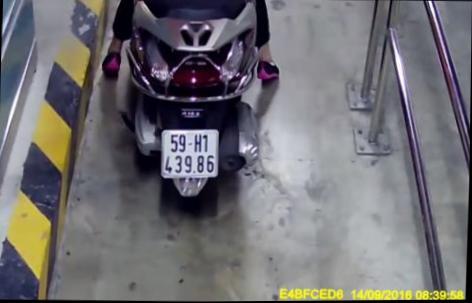LP: (159, 128, 221, 179)
